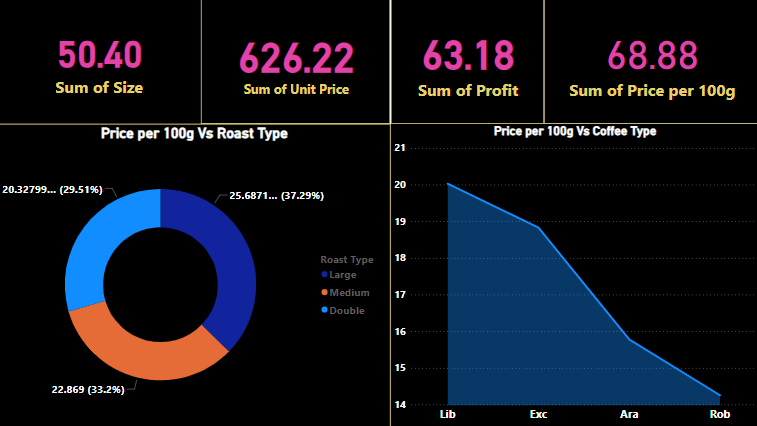

The page's visual inventory and layout, read from the dashboard file:
{"tool":"powerbi","page":{"name":"Page 1","canvas":[1280,720],"ordinal":0},"visuals":[{"type":"card","fields":{"Values":["Sum(products.Size)"]},"box":[10.1,0,340.6,213.1],"z":0},{"type":"card","fields":{"Values":["Sum(products.Unit Price)"]},"box":[350.6,0,315.4,213.1],"z":1000},{"type":"card","fields":{"Values":["Sum(products.Profit)"]},"box":[666,0,255,213.1],"z":2000},{"type":"card","fields":{"Values":["Sum(products.Price per 100g)"]},"box":[921,0,359,213.1],"z":3000},{"type":"donutChart","title":"Price per 100g Vs  Roast Type","fields":{"Category":["products.Roast Type"],"Y":["Sum(products.Price per 100g)"]},"box":[10.1,213.1,655.9,506.6],"z":5000},{"type":"areaChart","title":" Price per 100g Vs  Coffee Type","fields":{"Category":["products.Coffee Type"],"Y":["Sum(products.Price per 100g)"]},"box":[666,213.1,614,506.6],"z":6000}]}

Visuals, with their boxes in screenshot pixels (x1, y1, x2, y2), scaled from the page's 1280x720 canvas onto the 757x426 screenshot:
card - Sum(products.Size): select_region(6, 0, 207, 126)
card - Sum(products.Unit Price): select_region(207, 0, 394, 126)
card - Sum(products.Profit): select_region(394, 0, 545, 126)
card - Sum(products.Price per 100g): select_region(545, 0, 756, 126)
"Price per 100g Vs  Roast Type" donutChart: select_region(6, 126, 394, 425)
" Price per 100g Vs  Coffee Type" areaChart: select_region(394, 126, 756, 425)
